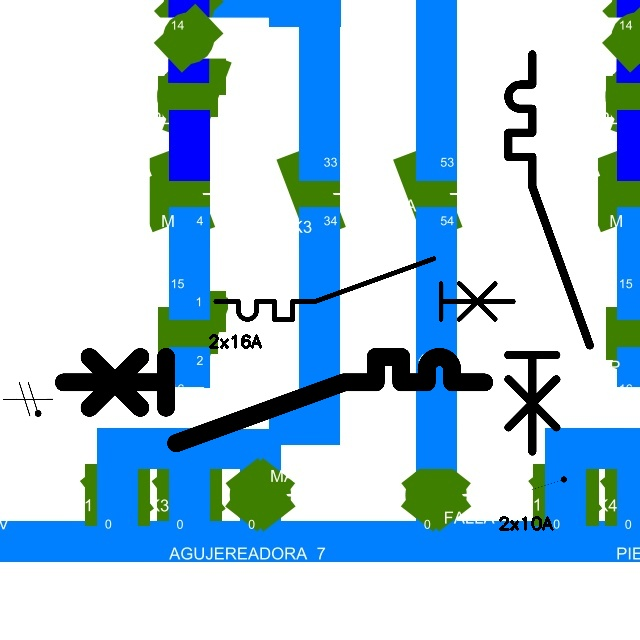interruptor_termomagnetico: (53, 346, 495, 454), (498, 44, 600, 462), (208, 251, 520, 327)
